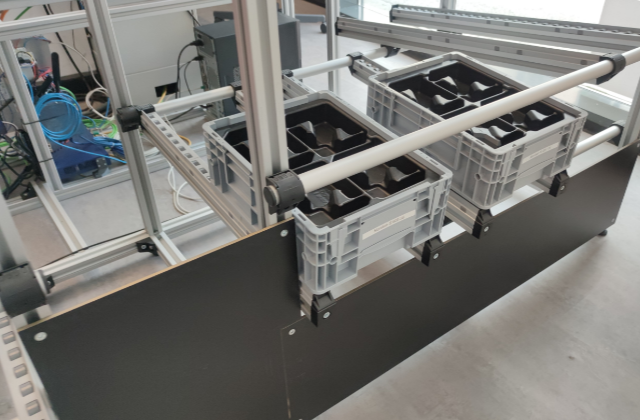Box: (201, 89, 454, 298), (365, 50, 590, 211)
